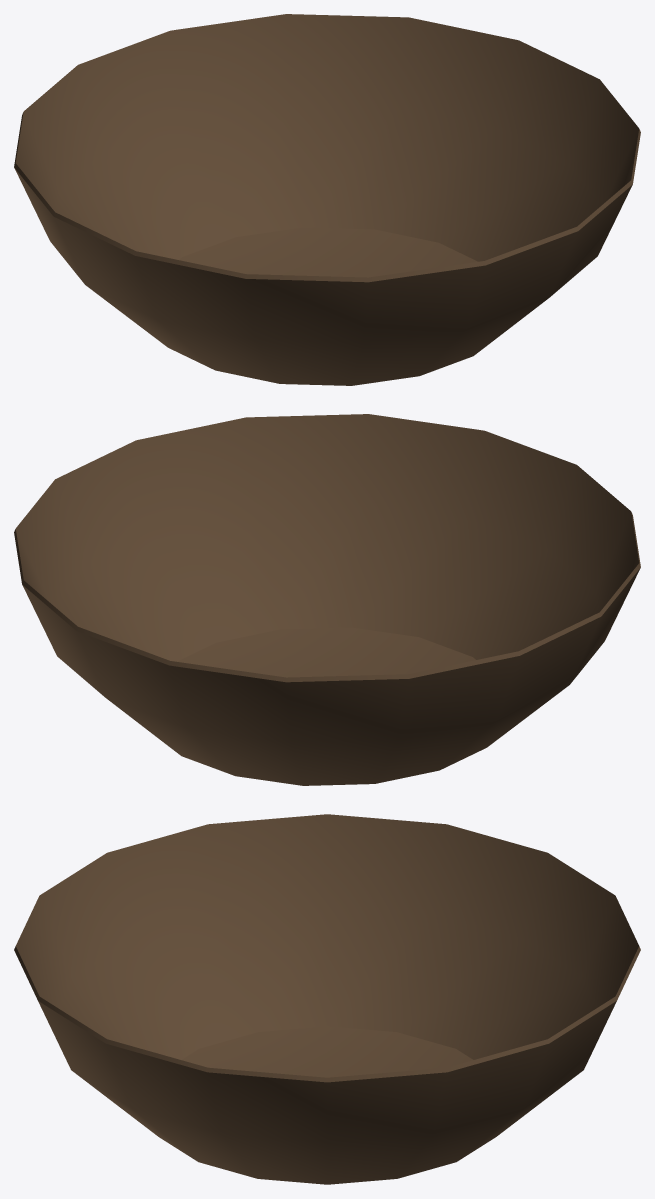
The model's file is bolw3.fbx.
The picture shows the model from 3 angles, top to bottom: view 1: azimuth 30°, elevation 25°; view 2: azimuth 150°, elevation 25°; view 3: azimuth 270°, elevation 25°; orthographic projection.
Parts seen in each view (by area): view 1: bolw3; view 2: bolw3; view 3: bolw3.
Part boxes in pixels (x1=…): bolw3: x1=14, y1=14, x2=640, y2=385; bolw3: x1=14, y1=414, x2=640, y2=785; bolw3: x1=14, y1=814, x2=640, y2=1184.
Size of the model in its own units: 0.189 by 0.0607 by 0.189.
